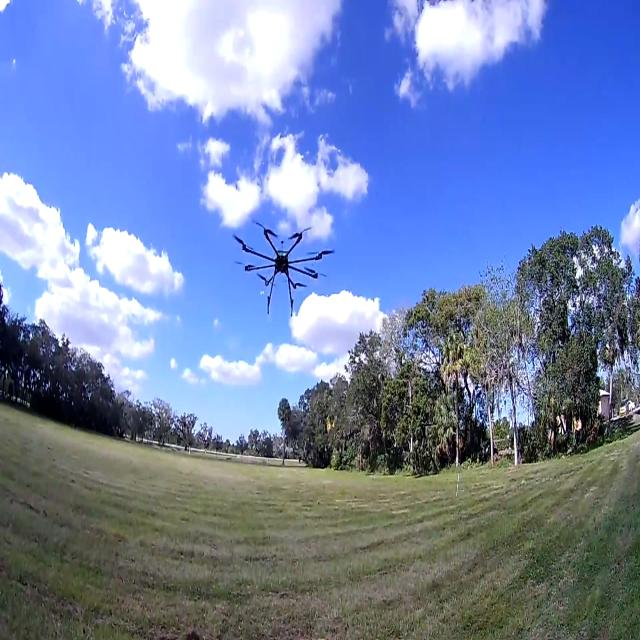drone: (236, 216, 330, 322)
